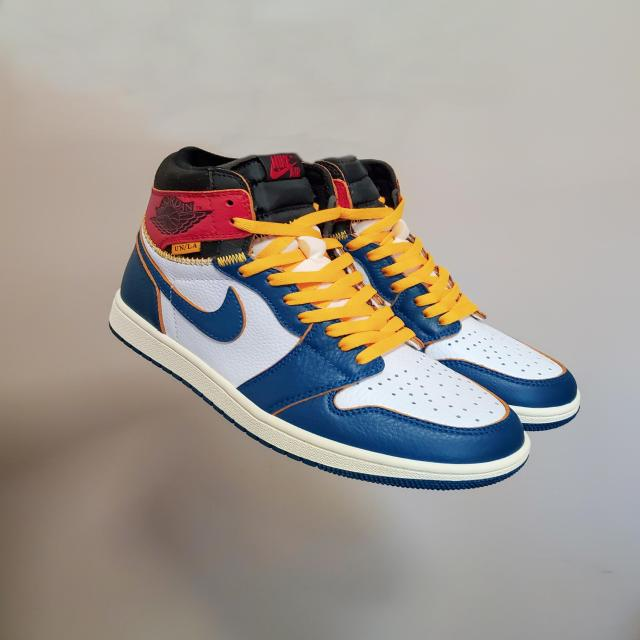shoe: (109, 144, 536, 490), (299, 153, 583, 436)
